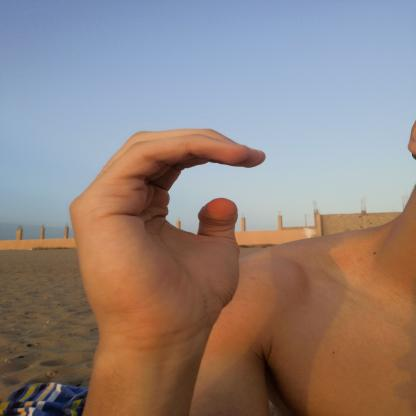JEEM: (47, 113, 283, 344)
